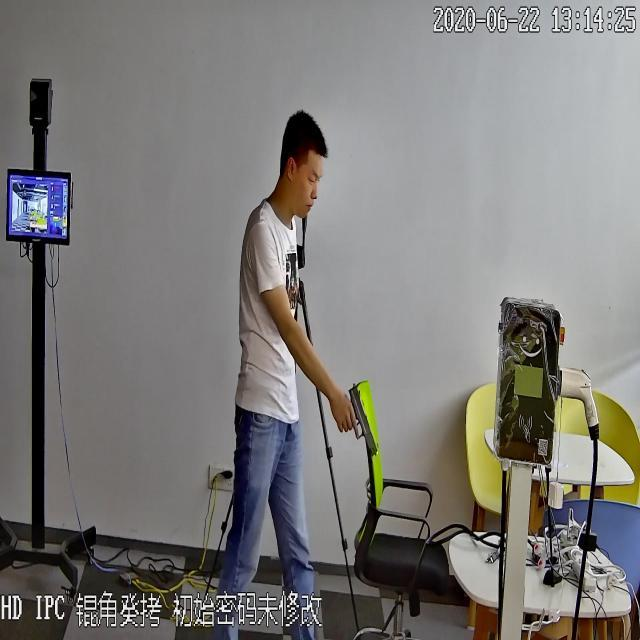gun-knife-thesis - v11 Yolov5 augmented: (330, 380, 378, 460)
